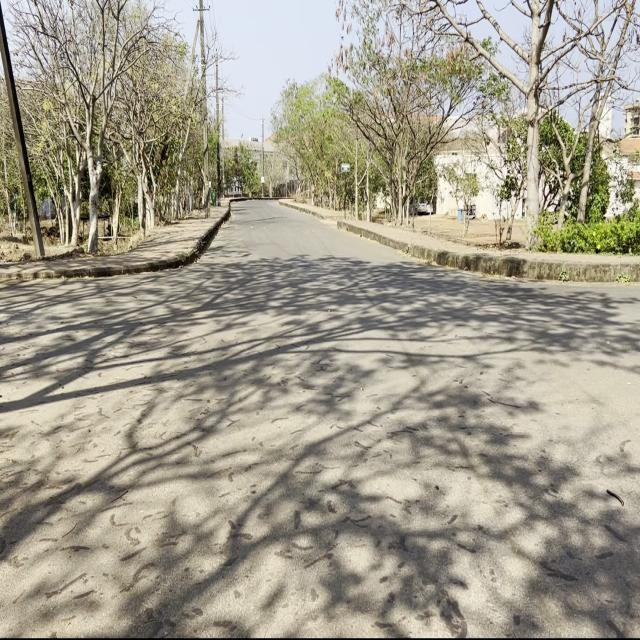Road: (2, 201, 636, 633)
